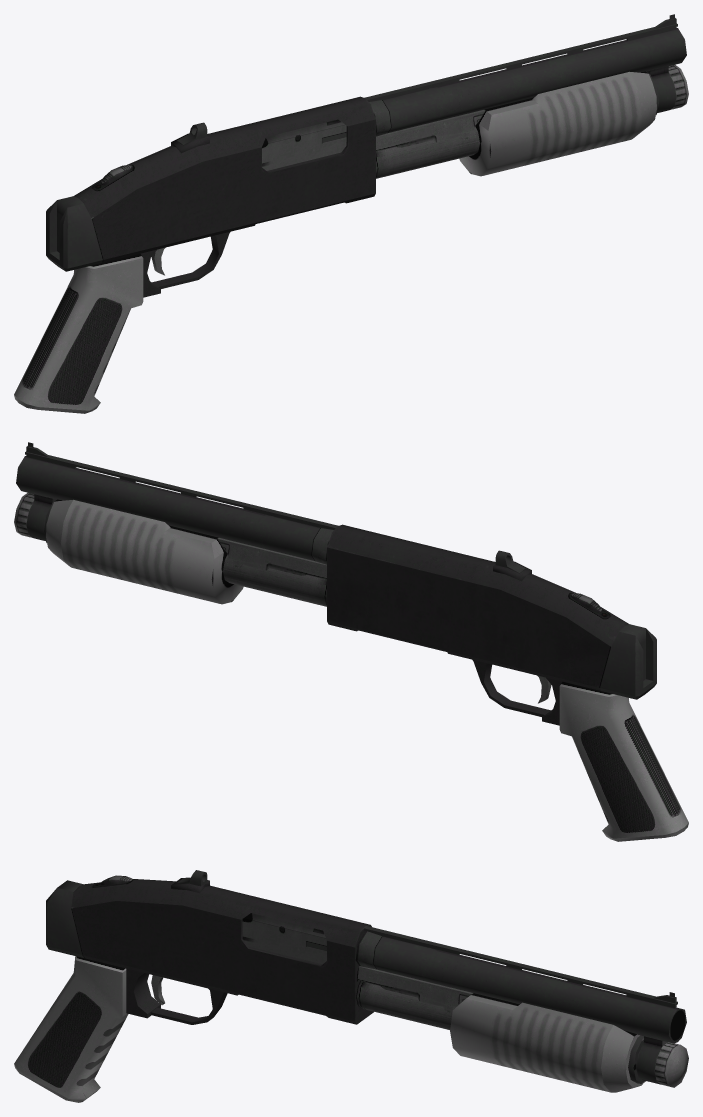
Rendered from fap.glb.
3 renders of one model, top to bottom at view 1: azimuth 30°, elevation 25°; view 2: azimuth 150°, elevation 25°; view 3: azimuth 330°, elevation 25°, orthographic.
Parts seen in each view (by area): view 1: Gun_Root.004; view 2: Gun_Root.004; view 3: Gun_Root.004.
Boxes of the visible parts, <box> form: Gun_Root.004: <box>14,14,688,413</box>; Gun_Root.004: <box>14,442,688,841</box>; Gun_Root.004: <box>14,870,688,1102</box>.
Bounding box in the file's own units: 1.18 × 0.4333 × 0.127.
Materials: 1 (1 with a texture image).
